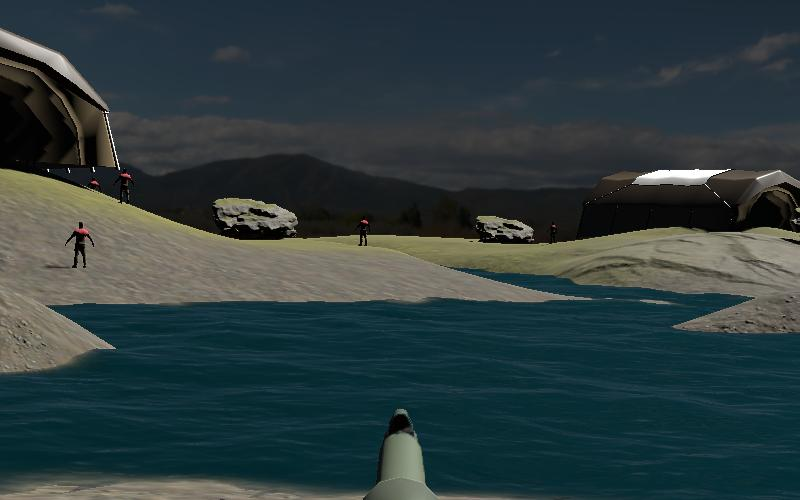Human: (63, 217, 97, 272), (112, 166, 136, 207), (353, 214, 373, 250), (544, 219, 561, 247)
